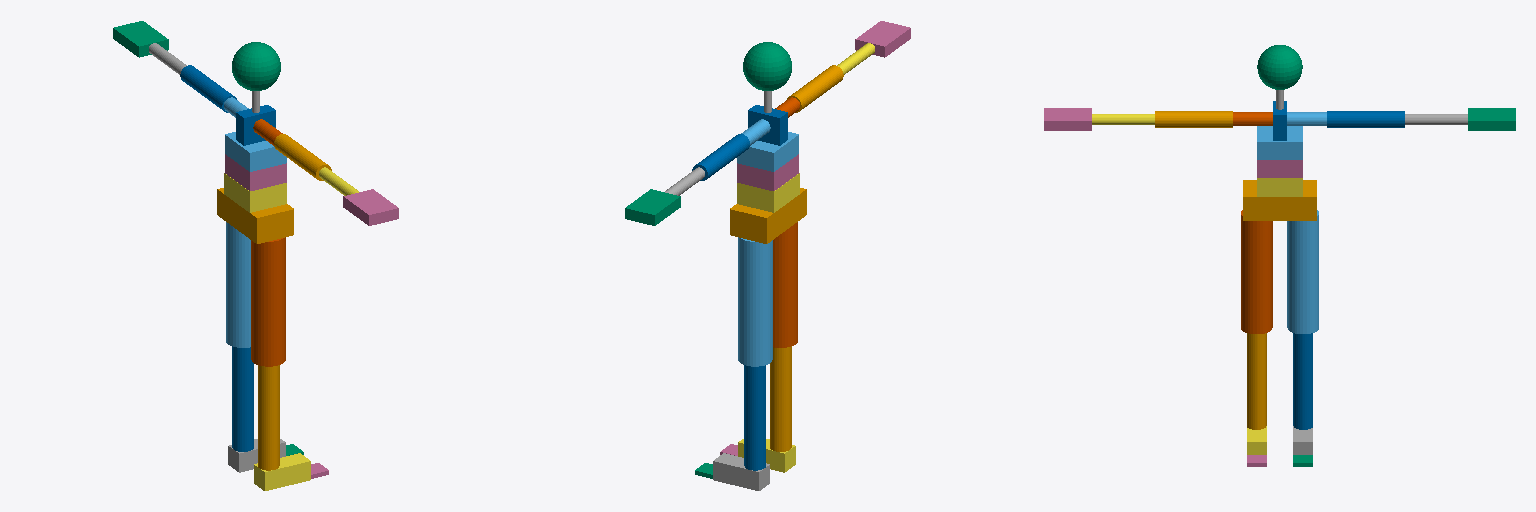
--- Render facts (derived) ---
3 views of the same robot in one strip: view 1: azimuth 30°, elevation 25°; view 2: azimuth 150°, elevation 25°; view 3: azimuth 270°, elevation 25° (orthographic).
Model XSensStyleModel_template with 67 links and 66 joints (66 revolute), rooted at Pelvis, posed all joints at 0.
Links seen in each view (by area): view 1: RightUpperLeg, LeftUpperLeg, Pelvis, RightLowerLeg, LeftLowerLeg, Head, T12, RightFoot, RightHand, L5, LeftHand, L3 (+4 smaller); view 2: LeftUpperLeg, RightUpperLeg, Pelvis, LeftLowerLeg, RightLowerLeg, Head, T12, LeftFoot, LeftHand, L5, RightHand, L3 (+4 smaller); view 3: RightUpperLeg, LeftUpperLeg, Pelvis, RightLowerLeg, LeftLowerLeg, Head, T12, RightUpperArm, LeftUpperArm, RightHand, LeftHand, L5 (+5 smaller).
Boxes of the visible links, bbox=[...] form: RightUpperLeg: bbox=[251, 237, 285, 366]; LeftUpperLeg: bbox=[226, 222, 250, 347]; Pelvis: bbox=[217, 188, 293, 243]; RightLowerLeg: bbox=[258, 365, 279, 470]; LeftLowerLeg: bbox=[232, 346, 253, 451]; Head: bbox=[232, 42, 280, 90]; T12: bbox=[225, 132, 286, 171]; RightFoot: bbox=[254, 453, 310, 490]; RightHand: bbox=[343, 189, 398, 225]; L5: bbox=[224, 173, 286, 212]; LeftHand: bbox=[113, 21, 168, 57]; L3: bbox=[225, 154, 286, 190]; LeftUpperLeg: bbox=[738, 237, 772, 366]; RightUpperLeg: bbox=[773, 222, 797, 347]; Pelvis: bbox=[730, 188, 806, 243]; LeftLowerLeg: bbox=[744, 365, 765, 470]; RightLowerLeg: bbox=[770, 346, 791, 451]; Head: bbox=[743, 42, 791, 90]; T12: bbox=[737, 132, 798, 171]; LeftFoot: bbox=[713, 453, 769, 490]; LeftHand: bbox=[625, 189, 680, 225]; L5: bbox=[737, 173, 799, 212]; RightHand: bbox=[855, 21, 910, 57]; L3: bbox=[737, 154, 798, 190]; RightUpperLeg: bbox=[1241, 210, 1272, 333]; LeftUpperLeg: bbox=[1287, 210, 1318, 333]; Pelvis: bbox=[1243, 180, 1316, 220]; RightLowerLeg: bbox=[1247, 333, 1266, 429]; LeftLowerLeg: bbox=[1293, 333, 1312, 429]; Head: bbox=[1257, 45, 1302, 89]; T12: bbox=[1257, 126, 1302, 159]; RightUpperArm: bbox=[1155, 111, 1232, 127]; LeftUpperArm: bbox=[1327, 111, 1404, 127]; RightHand: bbox=[1044, 108, 1091, 130]; LeftHand: bbox=[1468, 108, 1515, 130]; L5: bbox=[1257, 178, 1302, 196].
Size in the robot's own frame: 0.3304 by 1.92 by 1.79 metres.
Geometry: primitives only (box / cylinder / sphere), no mesh files.

URDF robot description (XSensStyleModel_template):
<!--URDF MODEL 66 DoFs-->

<robot name="XSensStyleModel_template">
<!--To open this model with Gazebo replace the null masses, inertias and dimensions of the 'fake links f1 and f2'-->
    <!--LINKS-->
	<!--Link base (1)-->
	<link name="Pelvis">
        <inertial>
            <mass value="6.312"/>
			<!--COM origin wrt pHipOrigin-->
            <origin xyz="0           0    0.057318" rpy="0 0 0" />
            <inertia ixx="0.052822" iyy="0.019965" izz="0.060476" ixy="0" ixz="0" iyz="0"/>
        </inertial>

        <visual>
			<!--box origin wrt pHipOrigin-->
            <origin xyz="0           0    0.057318" rpy="0 0 0" />
            <geometry>
                <box size="0.16203     0.29786     0.10818"/>
            </geometry>
        </visual>

        <collision>
			<!--box origin wrt pHipOrigin-->
            <origin xyz="0           0    0.057318" rpy="0 0 0" />
            <geometry>
                <box size="0.16203     0.29786     0.10818"/>
            </geometry>
        </collision>

    </link>
    <!--Chain from (2) to (7)-->
	<link name="L5_f1">
        <inertial>
            <mass value="0"/>
            <origin xyz="0 0 0" rpy="0 0 0" />
            <inertia ixx="0" iyy="0" izz="0" ixy="0" ixz="0" iyz="0"/>
        </inertial>
    </link>
	<link name="L5_f2">
        <inertial>
            <mass value="0"/>
            <origin xyz="0 0 0" rpy="0 0 0" />
            <inertia ixx="0" iyy="0" izz="0" ixy="0" ixz="0" iyz="0"/>
        </inertial>
    </link>
	<link name="L5">
        <inertial>
            <mass value="8.0478"/>
			<!--COM origin wrt jL5S1-->
            <origin xyz="0           0    0.044243" rpy="0 0 0" />
            <inertia ixx="0.029829" iyy="0.022858" izz="0.042185" ixy="0" ixz="0" iyz="0"/>
        </inertial>

        <visual>
			<!--box origin origin wrt jL5S1-->
            <origin xyz="0           0    0.044243" rpy="0 0 0" />
            <geometry>
                <box size="0.16203     0.19144    0.088486"/>
            </geometry>
        </visual>

        <collision>
			<!--box origin origin wrt jL5S1-->
            <origin xyz="0           0    0.044243" rpy="0 0 0" />
            <geometry>
                <box size="0.16203     0.19144    0.088486"/>
            </geometry>
        </collision>
    </link>
	<link name="L3_f1">
        <inertial>
            <mass value="0"/>
            <origin xyz="0 0 0" rpy="0 0 0" />
            <inertia ixx="0" iyy="0" izz="0" ixy="0" ixz="0" iyz="0"/>
        </inertial>
    </link>
	<link name="L3_f2">
        <inertial>
            <mass value="0"/>
            <origin xyz="0 0 0" rpy="0 0 0" />
            <inertia ixx="0" iyy="0" izz="0" ixy="0" ixz="0" iyz="0"/>
        </inertial>
    </link>
	<link name="L3">
        <inertial>
            <mass value="8.0478"/>
			<!--COM origin wrt jL4L3-->
            <origin xyz="0           0    0.039957" rpy="0 0 0" />
            <inertia ixx="0.028861" iyy="0.02189" izz="0.042185" ixy="0" ixz="0" iyz="0"/>
        </inertial>

        <visual>
			<!--box origin origin wrt jL4L3-->
            <origin xyz="0           0    0.039957" rpy="0 0 0" />
            <geometry>
                <box size="0.16203     0.19144    0.079914"/>
            </geometry>
        </visual>

        <collision>
			<!--box origin origin wrt jL4L3-->
            <origin xyz="0           0    0.039957" rpy="0 0 0" />
            <geometry>
                <box size="0.16203     0.19144    0.079914"/>
            </geometry>
        </collision>
    </link>
	<link name="T12_f1">
        <inertial>
            <mass value="0"/>
            <origin xyz="0 0 0" rpy="0 0 0" />
            <inertia ixx="0" iyy="0" izz="0" ixy="0" ixz="0" iyz="0"/>
        </inertial>
    </link>
	<link name="T12_f2">
        <inertial>
            <mass value="0"/>
            <origin xyz="0 0 0" rpy="0 0 0" />
            <inertia ixx="0" iyy="0" izz="0" ixy="0" ixz="0" iyz="0"/>
        </inertial>
    </link>
	<link name="T12">
        <inertial>
            <mass value="8.0478"/>
			<!--COM origin wrt jL1T12-->
            <origin xyz="0           0    0.039957" rpy="0 0 0" />
            <inertia ixx="0.028861" iyy="0.02189" izz="0.042185" ixy="0" ixz="0" iyz="0"/>
        </inertial>

        <visual>
			<!--box origin origin wrt jL1T12-->
            <origin xyz="0           0    0.039957" rpy="0 0 0" />
            <geometry>
                <box size="0.16203     0.19144    0.079914"/>
            </geometry>
        </visual>

        <collision>
			<!--box origin origin wrt jL1T12-->
            <origin xyz="0           0    0.039957" rpy="0 0 0" />
            <geometry>
                <box size="0.16203     0.19144    0.079914"/>
            </geometry>
        </collision>
    </link>
	<link name="T8_f1">
        <inertial>
            <mass value="0"/>
            <origin xyz="0 0 0" rpy="0 0 0" />
            <inertia ixx="0" iyy="0" izz="0" ixy="0" ixz="0" iyz="0"/>
        </inertial>
    </link>
	<link name="T8_f2">
        <inertial>
            <mass value="0"/>
            <origin xyz="0 0 0" rpy="0 0 0" />
            <inertia ixx="0" iyy="0" izz="0" ixy="0" ixz="0" iyz="0"/>
        </inertial>
    </link>
	<link name="T8">
        <inertial>
            <mass value="3.156"/>
			<!--COM origin wrt jT9T8-->
            <origin xyz="0           0    0.057446" rpy="0 0 0" />
            <inertia ixx="0.0044311" iyy="0.0085523" izz="0.0060402" ixy="0" ixz="0" iyz="0"/>
        </inertial>

        <visual>
			<!--box origin wrt jT9T8-->
            <origin xyz="0           0    0.057446" rpy="0 0 0" />
            <geometry>
                <box size="0.13899      0.0604     0.11489"/>
            </geometry>
        </visual>

        <collision>
			<!--box origin wrt jT9T8-->
            <origin xyz="0           0    0.057446" rpy="0 0 0" />
            <geometry>
                <box size="0.13899      0.0604     0.11489"/>
            </geometry>
        </collision>

    </link>
	<link name="Neck_f1">
        <inertial>
            <mass value="0"/>
            <origin xyz="0 0 0" rpy="0 0 0" />
            <inertia ixx="0" iyy="0" izz="0" ixy="0" ixz="0" iyz="0"/>
        </inertial>
    </link>
	<link name="Neck_f2">
        <inertial>
            <mass value="0"/>
            <origin xyz="0 0 0" rpy="0 0 0" />
            <inertia ixx="0" iyy="0" izz="0" ixy="0" ixz="0" iyz="0"/>
        </inertial>
    </link>
	<link name="Neck">
        <inertial>
            <mass value="0.9468"/>
			<!--COM origin wrt jT1C7-->
            <origin xyz="0           0    0.045875" rpy="0 0 0" />
            <inertia ixx="0.00087909" iyy="0.00087909" izz="0.00042982" ixy="0" ixz="0" iyz="0"/>
        </inertial>

        <visual>
			<!--box origin wrt jT1C7-->
            <origin xyz="0           0    0.045875" rpy="0 0 0" />
            <geometry>
		<cylinder length="0.09175" radius="0.015066"/>
            </geometry>
        </visual>

        <collision>
			<!--box origin wrt jT1C7-->
            <origin xyz="0           0    0.045875" rpy="0 0 0" />
            <geometry>
                <cylinder length="0.09175" radius="0.015066"/>
            </geometry>
        </collision>
    </link>
	<link name="Head_f1">
        <inertial>
            <mass value="0"/>
            <origin xyz="0 0 0" rpy="0 0 0" />
            <inertia ixx="0" iyy="0" izz="0" ixy="0" ixz="0" iyz="0"/>
        </inertial>
    </link>
	<link name="Head_f2">
        <inertial>
            <mass value="0"/>
            <origin xyz="0 0 0" rpy="0 0 0" />
            <inertia ixx="0" iyy="0" izz="0" ixy="0" ixz="0" iyz="0"/>
        </inertial>
    </link>
	<link name="Head">
        <inertial>
            <mass value="2.8404"/>
			<!--COM origin wrt jC1Head-->
            <origin xyz="0           0    0.092703" rpy="0 0 0" />
            <inertia ixx="0.0097641" iyy="0.0097641" izz="0.0097641" ixy="0" ixz="0" iyz="0"/>
        </inertial>

        <visual>
			<!--boc origin wrt jC1Head-->
            <origin xyz="0           0    0.092703" rpy="0 0 0" />
            <geometry>
                <sphere radius="0.092703"/>
            </geometry>
        </visual>

        <collision>
			<!--box origin wrt jC1Head-->
            <origin xyz="0           0    0.092703" rpy="0 0 0" />
            <geometry>
                <sphere radius="0.092703"/>
            </geometry>
        </collision>

    </link>
	<!--Chain from (8) to (11)-->
	<link name="RightShoulder_f1">
        <inertial>
            <mass value="0"/>
            <origin xyz="0 0 0" rpy="0 0 0" />
            <inertia ixx="0" iyy="0" izz="0" ixy="0" ixz="0" iyz="0"/>
        </inertial>
    </link>
	<link name="RightShoulder_f2">
        <inertial>
            <mass value="0"/>
            <origin xyz="0 0 0" rpy="0 0 0" />
            <inertia ixx="0" iyy="0" izz="0" ixy="0" ixz="0" iyz="0"/>
        </inertial>
    </link>
	<link name="RightShoulder">
        <inertial>
            <mass value="2.4459"/>
			<!--COM origin wrt jRightC7Shoulder-->
            <origin xyz="0   -0.081595           0" rpy="0 0 0" />
            <inertia ixx="0.0059341" iyy="0.0010123" izz="0.0059341" ixy="0" ixz="0" iyz="0"/>
        </inertial>

        <visual>
			<!--box origin wrt jRightC7Shoulder. RPY rotated of pi/2.-->
            <origin xyz="0   -0.081595           0" rpy="1.5708 0 0" />
            <geometry>
                <cylinder length="0.16319" radius="0.02877"/>
            </geometry>
        </visual>

        <collision>
			<!--box origin wrt jRightC7Shoulder. RPY rotated of pi/2.-->
            <origin xyz="0   -0.081595           0" rpy="1.5708 0 0" />
            <geometry>
                <cylinder length="0.16319" radius="0.02877"/>
            </geometry>
        </collision>

    </link>
	<link name="RightUpperArm_f1">
        <inertial>
            <mass value="0"/>
            <origin xyz="0 0 0" rpy="0 0 0" />
            <inertia ixx="0" iyy="0" izz="0" ixy="0" ixz="0" iyz="0"/>
        </inertial>
    </link>
	<link name="RightUpperArm_f2">
        <inertial>
            <mass value="0"/>
            <origin xyz="0 0 0" rpy="0 0 0" />
            <inertia ixx="0" iyy="0" izz="0" ixy="0" ixz="0" iyz="0"/>
        </inertial>
    </link>
    <link name="RightUpperArm">
        <inertial>
            <mass value="2.367"/>
			<!--COM origin wrt jRightShoulder-->
            <origin xyz="0    -0.15754           0" rpy="0 0 0" />
            <inertia ixx="0.020275" iyy="0.0013847" izz="0.020275" ixy="0" ixz="0" iyz="0"/>
        </inertial>

        <visual>
			<!--box origin wrt jRightShoulder. RPY rotated of pi/2.-->
            <origin xyz="0    -0.15754           0" rpy="1.5708 0 0" />
            <geometry>
                <cylinder length="0.31509" radius="0.034205"/>
            </geometry>
        </visual>

        <collision>
			<!--box origin wrt jRightShoulder. RPY rotated of pi/2.-->
            <origin xyz="0    -0.15754           0" rpy="1.5708 0 0" />
            <geometry>
                <cylinder length="0.31509" radius="0.034205"/>
            </geometry>
        </collision>

    </link>
	<link name="RightForeArm_f1">
        <inertial>
            <mass value="0"/>
            <origin xyz="0 0 0" rpy="0 0 0" />
            <inertia ixx="0" iyy="0" izz="0" ixy="0" ixz="0" iyz="0"/>
        </inertial>
    </link>
	<link name="RightForeArm_f2">
        <inertial>
            <mass value="0"/>
            <origin xyz="0 0 0" rpy="0 0 0" />
            <inertia ixx="0" iyy="0" izz="0" ixy="0" ixz="0" iyz="0"/>
        </inertial>
    </link>
	<link name="RightForeArm">
        <inertial>
            <mass value="1.578"/>
			<!--COM origin wrt jRightElbow-->
            <origin xyz="0     -0.1292           0" rpy="0 0 0" />
            <inertia ixx="0.0089856" iyy="0.00041027" izz="0.0089856" ixy="0" ixz="0" iyz="0"/>
        </inertial>

        <visual>
			<!--box origin wrt jRightElbow. RPY rotated of pi/2.-->
            <origin xyz="0     -0.1292           0" rpy="1.5708 0 0" />
            <geometry>
                <cylinder length="0.2584" radius="0.022803"/>
            </geometry>
        </visual>

        <collision>
			<!--box origin wrt jRightElbow. RPY rotated of pi/2.-->
            <origin xyz="0     -0.1292           0" rpy="1.5708 0 0" />
            <geometry>
                <cylinder length="0.2584" radius="0.022803"/>
            </geometry>
        </collision>

    </link>
	<link name="RightHand_f1">
        <inertial>
            <mass value="0"/>
            <origin xyz="0 0 0" rpy="0 0 0" />
            <inertia ixx="0" iyy="0" izz="0" ixy="0" ixz="0" iyz="0"/>
        </inertial>
    </link>
	<link name="RightHand_f2">
        <inertial>
            <mass value="0"/>
            <origin xyz="0 0 0" rpy="0 0 0" />
            <inertia ixx="0" iyy="0" izz="0" ixy="0" ixz="0" iyz="0"/>
        </inertial>
    </link>
	<link name="RightHand">
        <inertial>
            <mass value="0.4734"/>
			<!--COM origin wrt jRightWrist-->
            <origin xyz="0   -0.096871           0" rpy="0 0 0" />
            <inertia ixx="0.0015629" iyy="0.00074019" izz="0.0021389" ixy="0" ixz="0" iyz="0"/>
        </inertial>

        <visual>
			<!--box origin wrt jRightWrist-->
            <origin xyz="0   -0.096871           0" rpy="0 0 0" />
            <geometry>
                <box size="0.12916     0.19374    0.045607"/>
            </geometry>
        </visual>

        <collision>
			<!--box origin wrt jRightWrist-->
            <origin xyz="0   -0.096871           0" rpy="0 0 0" />
            <geometry>
                <box size="0.12916     0.19374    0.045607"/>
            </geometry>
        </collision>

    </link>
	<!--Chain from (12) to (15)-->
	<link name="LeftShoulder_f1">
        <inertial>
            <mass value="0"/>
            <origin xyz="0 0 0" rpy="0 0 0" />
            <inertia ixx="0" iyy="0" izz="0" ixy="0" ixz="0" iyz="0"/>
        </inertial>
    </link>
	<link name="LeftShoulder_f2">
        <inertial>
            <mass value="0"/>
            <origin xyz="0 0 0" rpy="0 0 0" />
            <inertia ixx="0" iyy="0" izz="0" ixy="0" ixz="0" iyz="0"/>
        </inertial>
    </link>
	<link name="LeftShoulder">
        <inertial>
            <mass value="2.4459"/>
			<!--COM origin wrt jLeftC7Shoulder-->
            <origin xyz="0    0.081595           0" rpy="0 0 0" />
            <inertia ixx="0.0059341" iyy="0.0010123" izz="0.0059341" ixy="0" ixz="0" iyz="0"/>
        </inertial>

        <visual>
			<!--box origin wrt jLeftC7Shoulder. RPY rotated of pi/2.-->
            <origin xyz="0    0.081595           0" rpy="1.5708 0 0" />
            <geometry>
                <cylinder length="0.16319" radius="0.02877"/>
            </geometry>
        </visual>

        <collision>
			<!--box origin wrt jLeftC7Shoulder. RPY rotated of pi/2.-->
            <origin xyz="0    0.081595           0" rpy="1.5708 0 0" />
            <geometry>
                <cylinder length="0.16319" radius="0.02877"/>
            </geometry>
        </collision>

    </link>
	<link name="LeftUpperArm_f1">
        <inertial>
            <mass value="0"/>
            <origin xyz="0 0 0" rpy="0 0 0" />
            <inertia ixx="0" iyy="0" izz="0" ixy="0" ixz="0" iyz="0"/>
        </inertial>
    </link>
	<link name="LeftUpperArm_f2">
        <inertial>
            <mass value="0"/>
            <origin xyz="0 0 0" rpy="0 0 0" />
            <inertia ixx="0" iyy="0" izz="0" ixy="0" ixz="0" iyz="0"/>
        </inertial>
    </link>
	<link name="LeftUpperArm">
        <inertial>
            <mass value="2.367"/>
			<!--COM origin wrt jLeftShoulder-->
            <origin xyz="0     0.15754           0" rpy="0 0 0" />
            <inertia ixx="0.020275" iyy="0.0013847" izz="0.020275" ixy="0" ixz="0" iyz="0"/>
        </inertial>

        <visual>
			<!--box origin wrt jLeftShoulder. RPY rotated of pi/2.-->
            <origin xyz="0     0.15754           0" rpy="1.5708 0 0" />
            <geometry>
                <cylinder length="0.31509" radius="0.034205"/>
            </geometry>
        </visual>

        <collision>
			<!--box origin wrt jLeftShoulder. RPY rotated of pi/2.-->
            <origin xyz="0     0.15754           0" rpy="1.5708 0 0" />
            <geometry>
                <cylinder length="0.31509" radius="0.034205"/>
            </geometry>
        </collision>

    </link>
	<link name="LeftForeArm_f1">
        <inertial>
            <mass value="0"/>
            <origin xyz="0 0 0" rpy="0 0 0" />
            <inertia ixx="0" iyy="0" izz="0" ixy="0" ixz="0" iyz="0"/>
        </inertial>
    </link>
	<link name="LeftForeArm_f2">
        <inertial>
            <mass value="0"/>
            <origin xyz="0 0 0" rpy="0 0 0" />
            <inertia ixx="0" iyy="0" izz="0" ixy="0" ixz="0" iyz="0"/>
        </inertial>
    </link>
	<link name="LeftForeArm">
        <inertial>
            <mass value="1.578"/>
			<!--COM origin wrt jLeftElbow-->
            <origin xyz="0      0.1292           0" rpy="0 0 0" />
            <inertia ixx="0.0089856" iyy="0.00041027" izz="0.0089856" ixy="0" ixz="0" iyz="0"/>
        </inertial>

        <visual>
			<!--box origin wrt jLeftElbow. RPY rotated of pi/2.-->
            <origin xyz="0      0.1292           0" rpy="1.5708 0 0" />
            <geometry>
                <cylinder length="0.2584" radius="0.022803"/>
            </geometry>
        </visual>

        <collision>
			<!--box origin wrt jLeftElbow. RPY rotated of pi/2.-->
            <origin xyz="0      0.1292           0" rpy="1.5708 0 0" />
            <geometry>
                <cylinder length="0.2584" radius="0.022803"/>
            </geometry>
        </collision>

    </link>
	<link name="LeftHand_f1">
        <inertial>
            <mass value="0"/>
            <origin xyz="0 0 0" rpy="0 0 0" />
            <inertia ixx="0" iyy="0" izz="0" ixy="0" ixz="0" iyz="0"/>
        </inertial>
    </link>
	<link name="LeftHand_f2">
        <inertial>
            <mass value="0"/>
            <origin xyz="0 0 0" rpy="0 0 0" />
            <inertia ixx="0" iyy="0" izz="0" ixy="0" ixz="0" iyz="0"/>
        </inertial>
    </link>
	<link name="LeftHand">
        <inertial>
            <mass value="0.4734"/>
			<!--COM origin wrt jLeftWrist-->
            <origin xyz="0    0.096871           0" rpy="0 0 0" />
            <inertia ixx="0.0015629" iyy="0.00074019" izz="0.0021389" ixy="0" ixz="0" iyz="0"/>
        </inertial>

        <visual>
			<!--COM origin wrt jLeftWrist-->
            <origin xyz="0    0.096871           0" rpy="0 0 0" />
            <geometry>
                <box size="0.12916     0.19374    0.045607"/>
            </geometry>
        </visual>

        <collision>
			<!--COM origin wrt jLeftWrist-->
            <origin xyz="0    0.096871           0" rpy="0 0 0" />
            <geometry>
                <box size="0.12916     0.19374    0.045607"/>
            </geometry>
        </collision>

    </link>
	<!--Chain from (16) to (19)-->
	<link name="RightUpperLeg_f1">
        <inertial>
            <mass value="0"/>
            <origin xyz="0 0 0" rpy="0 0 0" />
            <inertia ixx="0" iyy="0" izz="0" ixy="0" ixz="0" iyz="0"/>
        </inertial>
    </link>
	<link name="RightUpperLeg_f2">
        <inertial>
            <mass value="0"/>
            <origin xyz="0 0 0" rpy="0 0 0" />
            <inertia ixx="0" iyy="0" izz="0" ixy="0" ixz="0" iyz="0"/>
        </inertial>
    </link>
    <link name="RightUpperLeg">
        <inertial>
            <mass value="9.8625"/>
			<!--COM origin wrt jRightHip-->
            <origin xyz="0           0     -0.2582" rpy="0 0 0" />
            <inertia ixx="0.22964" iyy="0.22964" izz="0.020925" ixy="0" ixz="0" iyz="0"/>
        </inertial>

        <visual>
			<!--box origin wrt jRightHip-->
            <origin xyz="0           0     -0.2582" rpy="0 0 0" />
            <geometry>
                <cylinder length="0.51641" radius="0.065141"/>
            </geometry>
        </visual>

        <collision>
			<!--box origin wrt jRightHip-->
            <origin xyz="0           0     -0.2582" rpy="0 0 0" />
            <geometry>
                <cylinder length="0.51641" radius="0.065141"/>
            </geometry>
        </collision>

    </link>
	<link name="RightLowerLeg_f1">
        <inertial>
            <mass value="0"/>
            <origin xyz="0 0 0" rpy="0 0 0" />
            <inertia ixx="0" iyy="0" izz="0" ixy="0" ixz="0" iyz="0"/>
        </inertial>
    </link>
	<link name="RightLowerLeg_f2">
        <inertial>
            <mass value="0"/>
            <origin xyz="0 0 0" rpy="0 0 0" />
            <inertia ixx="0" iyy="0" izz="0" ixy="0" ixz="0" iyz="0"/>
        </inertial>
    </link>
    <link name="RightLowerLeg">
        <inertial>
            <mass value="2.8799"/>
			<!--COM origin wrt jRightKnee-->
            <origin xyz="0           0    -0.22068" rpy="0 0 0" />
            <inertia ixx="0.047941" iyy="0.047941" izz="0.002384" ixy="0" ixz="0" iyz="0"/>
        </inertial>

        <visual>
			<!--box origin wrt jRightKnee-->
            <origin xyz="0           0    -0.22068" rpy="0 0 0" />
            <geometry>
                <cylinder length="0.44136" radius="0.04069"/>
            </geometry>
        </visual>

        <collision>
			<!--box origin wrt jRightKnee-->
            <origin xyz="0           0    -0.22068" rpy="0 0 0" />
            <geometry>
                <cylinder length="0.44136" radius="0.04069"/>
            </geometry>
        </collision>

    </link>
	<link name="RightFoot_f1">
        <inertial>
            <mass value="0"/>
            <origin xyz="0 0 0" rpy="0 0 0" />
            <inertia ixx="0" iyy="0" izz="0" ixy="0" ixz="0" iyz="0"/>
        </inertial>
    </link>
	<link name="RightFoot_f2">
        <inertial>
            <mass value="0"/>
            <origin xyz="0 0 0" rpy="0 0 0" />
            <inertia ixx="0" iyy="0" izz="0" ixy="0" ixz="0" iyz="0"/>
        </inertial>
    </link>
    <link name="RightFoot">
        <inertial>
            <mass value="1.0257"/>
			<!--COM origin wrt jRightAnkle-->
            <origin xyz="0.059932           0    -0.03973" rpy="0 0 0" />
            <inertia ixx="0.0011058" iyy="0.003993" izz="0.0040194" ixy="0" ixz="0" iyz="0"/>
        </inertial>

        <visual>
			<!--box origin wrt jRightAnkle-->
	    	<origin xyz="0.059932           0    -0.03973" rpy="0 0 0" />
            <geometry>
                <box size="0.201     0.08138     0.07946"/>
            </geometry>
        </visual>

        <collision>
			<!--box origin wrt jRightAnkle-->
		    <origin xyz="0.059932           0    -0.03973" rpy="0 0 0" />
	            <geometry>
	                <box size="0.201     0.08138     0.07946"/>
	            </geometry>
        </collision>

    </link>
	<link name="RightToe_f1">
        <inertial>
            <mass value="0"/>
            <origin xyz="0 0 0" rpy="0 0 0" />
            <inertia ixx="0" iyy="0" izz="0" ixy="0" ixz="0" iyz="0"/>
        </inertial>
    </link>
	<link name="RightToe_f2">
        <inertial>
            <mass value="0"/>
            <origin xyz="0 0 0" rpy="0 0 0" />
            <inertia ixx="0" iyy="0" izz="0" ixy="0" ixz="0" iyz="0"/>
        </inertial>
    </link>
    <link name="RightToe">
        <inertial>
            <mass value="0.11835"/>
			<!--COM origin wrt jRightBallFoot-->
            <origin xyz="0.039497           0           0" rpy="0 0 0" />
            <inertia ixx="6.8414e-05" iyy="6.4641e-05" izz="0.00012686" ixy="0" ixz="0" iyz="0"/>
        </inertial>

        <visual>
			<!--box origin wrt jRightBallFoot-->
            <origin xyz="0.039497           0           0" rpy="0 0 0" />
            <geometry>
                <box size="0.078995     0.08138    0.017721"/>
            </geometry>
        </visual>

        <collision>
			<!--box origin wrt jRightBallFoot-->
            <origin xyz="0.039497           0           0" rpy="0 0 0" />
            <geometry>
                <box size="0.078995     0.08138    0.017721"/>
            </geometry>
        </collision>
    </link>
	<!--Chain from (20) to (23)-->
	<link name="LeftUpperLeg_f1">
        <inertial>
            <mass value="0"/>
            <origin xyz="0 0 0" rpy="0 0 0" />
            <inertia ixx="0" iyy="0" izz="0" ixy="0" ixz="0" iyz="0"/>
        </inertial>
    </link>
	<link name="LeftUpperLeg_f2">
        <inertial>
            <mass value="0"/>
            <origin xyz="0 0 0" rpy="0 0 0" />
            <inertia ixx="0" iyy="0" izz="0" ixy="0" ixz="0" iyz="0"/>
        </inertial>
    </link>
    <link name="LeftUpperLeg">
        <inertial>
            <mass value="9.8625"/>
			<!--COM origin wrt jLeftHip-->
            <origin xyz="0           0     -0.2582" rpy="0 0 0" />
            <inertia ixx="0.22964" iyy="0.22964" izz="0.020925" ixy="0" ixz="0" iyz="0"/>
        </inertial>

        <visual>
			<!--box origin wrt jLeftHip-->
            <origin xyz="0           0     -0.2582" rpy="0 0 0" />
            <geometry>
                <cylinder length="0.51641" radius="0.065141"/>
            </geometry>
        </visual>

        <collision>
			<!--box origin wrt jLeftHip-->
            <origin xyz="0           0     -0.2582" rpy="0 0 0" />
            <geometry>
                <cylinder length="0.51641" radius="0.065141"/>
            </geometry>
        </collision>

    </link>
	<link name="LeftLowerLeg_f1">
        <inertial>
            <mass value="0"/>
            <origin xyz="0 0 0" rpy="0 0 0" />
            <inertia ixx="0" iyy="0" izz="0" ixy="0" ixz="0" iyz="0"/>
        </inertial>
    </link>
	<link name="LeftLowerLeg_f2">
        <inertial>
            <mass value="0"/>
            <origin xyz="0 0 0" rpy="0 0 0" />
            <inertia ixx="0" iyy="0" izz="0" ixy="0" ixz="0" iyz="0"/>
        </inertial>
    </link>
	<link name="LeftLowerLeg">
        <inertial>
            <mass value="2.8799"/>
			<!--COM origin wrt jLeftKnee-->
            <origin xyz="0           0    -0.22068" rpy="0 0 0" />
            <inertia ixx="0.047941" iyy="0.047941" izz="0.002384" ixy="0" ixz="0" iyz="0"/>
        </inertial>

        <visual>
			<!--box origin wrt jLeftKnee-->
            <origin xyz="0           0    -0.22068" rpy="0 0 0" />
            <geometry>
		<cylinder length="0.44136" radius="0.04069"/>
            </geometry>
        </visual>

        <collision>
			<!--box origin wrt jLeftKnee-->
            <origin xyz="0           0    -0.22068" rpy="0 0 0" />
            <geometry>
		<cylinder length="0.44136" radius="0.04069"/>
            </geometry>
        </collision>

    </link>
	<link name="LeftFoot_f1">
        <inertial>
            <mass value="0"/>
            <origin xyz="0 0 0" rpy="0 0 0" />
            <inertia ixx="0" iyy="0" izz="0" ixy="0" ixz="0" iyz="0"/>
        </inertial>
    </link>
	<link name="LeftFoot_f2">
        <inertial>
            <mass value="0"/>
            <origin xyz="0 0 0" rpy="0 0 0" />
            <inertia ixx="0" iyy="0" izz="0" ixy="0" ixz="0" iyz="0"/>
        </inertial>
    </link>
    <link name="LeftFoot">
        <inertial>
            <mass value="1.0257"/>
			<!--COM origin wrt jLeftAnkle-->
            <origin xyz="0.059932           0    -0.03973" rpy="0 0 0" />
            <inertia ixx="0.0011058" iyy="0.003993" izz="0.0040194" ixy="0" ixz="0" iyz="0"/>
        </inertial>

        <visual>
			<!--box origin wrt jLeftAnkle-->
	   	 	<origin xyz="0.059932           0    -0.03973" rpy="0 0 0" />
            <geometry>
                <box size="0.201     0.08138     0.07946"/>
            </geometry>
        </visual>

        <collision>
			<!--box origin wrt jLeftAnkle-->
		    <origin xyz="0.059932           0    -0.03973" rpy="0 0 0" />
	            <geometry>
	                <box size="0.201     0.08138     0.07946"/>
	            </geometry>
        </collision>

    </link>
	<link name="LeftToe_f1">
        <inertial>
            <mass value="0"/>
            <origin xyz="0 0 0" rpy="0 0 0" />
            <inertia ixx="0" iyy="0" izz="0" ixy="0" ixz="0" iyz="0"/>
        </inertial>
    </link>
	<link name="LeftToe_f2">
        <inertial>
            <mass value="0"/>
            <origin xyz="0 0 0" rpy="0 0 0" />
            <inertia ixx="0" iyy="0" izz="0" ixy="0" ixz="0" iyz="0"/>
        </inertial>
    </link>
	<link name="LeftToe">
        <inertial>
            <mass value="0.11835"/>
			<!--COM origin wrt jLeftBallFoot-->
            <origin xyz="0.039497           0           0" rpy="0 0 0" />
            <inertia ixx="6.8414e-05" iyy="6.4641e-05" izz="0.00012686" ixy="0" ixz="0" iyz="0"/>
        </inertial>

        <visual>
			<!--box origin wrt jLeftBallFoot-->
            <origin xyz="0.039497           0           0" rpy="0 0 0" />
            <geometry>
                <box size="0.078995     0.08138    0.017721"/>
            </geometry>
        </visual>

        <collision>
			<!--box origin wrt jLeftBallFoot-->
            <origin xyz="0.039497           0           0" rpy="0 0 0" />
            <geometry>
                <box size="0.078995     0.08138    0.017721"/>
            </geometry>
        </collision>
    </link>


	<!--JOINTS-->
	<!--Chain from (2) to (7)-->
	<joint name="jL5S1_rotx" type="revolute">
        <origin xyz="-0.000659           0     0.11141" rpy="0 0 0"/>
        <parent link="Pelvis"/>
        <child link="L5_f1"/>
        <dynamics damping="0.1" friction="0.0"/>
        <limit effort="30" velocity="1.0" lower="-10.0" upper="10.0" />
        <axis xyz="1 0 0" />
    </joint>
	<joint name="jL5S1_roty" type="revolute">
        <origin xyz="0 0 0" rpy="0 0 0"/>
        <parent link="L5_f1"/>
        <child link="L5_f2"/>
        <dynamics damping="0.1" friction="0.0"/>
        <limit effort="30" velocity="1.0" lower="-10.0" upper="10.0" />
        <axis xyz="0 1 0" />
    </joint>
    <joint name="jL5S1_rotz" type="revolute">
        <origin xyz="0 0 0" rpy="0 0 0"/>
        <parent link="L5_f2"/>
        <child link="L5"/>
        <dynamics damping="0.1" friction="0.0"/>
        <limit effort="30" velocity="1.0" lower="-10.0" upper="10.0" />
        <axis xyz="0 0 1" />
    </joint>
	<joint name="jL4L3_rotx" type="revolute">
        <origin xyz="0.001197           0    0.088486" rpy="0 0 0"/>
        <parent link="L5"/>
        <child link="L3_f1"/>
        <dynamics damping="0.1" friction="0.0"/>
        <limit effort="30" velocity="1.0" lower="-10.0" upper="10.0" />
        <axis xyz="1 0 0" />
    </joint>
	<joint name="jL4L3_roty" type="revolute">
        <origin xyz="0 0 0" rpy="0 0 0"/>
        <parent link="L3_f1"/>
        <child link="L3_f2"/>
        <dynamics damping="0.1" friction="0.0"/>
        <limit effort="30" velocity="1.0" lower="-10.0" upper="10.0" />
        <axis xyz="0 1 0" />
    </joint>
    <joint name="jL4L3_rotz" type="revolute">
        <origin xyz="0 0 0" rpy="0 0 0"/>
        <parent link="L3_f2"/>
        <child link="L3"/>
        <dynamics damping="0.1" friction="0.0"/>
        <limit effort="30" velocity="1.0" lower="-10.0" upper="10.0" />
        <axis xyz="0 0 1" />
    </joint>
	<joint name="jL1T12_rotx" type="revolute">
        <origin xyz="0           0    0.079914" rpy="0 0 0"/>
        <parent link="L3"/>
        <child link="T12_f1"/>
        <dynamics damping="0.1" friction="0.0"/>
        <limit effort="30" velocity="1.0" lower="-10.0" upper="10.0" />
        <axis xyz="1 0 0" />
    </joint>
	<joint name="jL1T12_roty" type="revolute">
        <origin xyz="0 0 0" rpy="0 0 0"/>
        <parent link="T12_f1"/>
        <child link="T12_f2"/>
        <dynamics damping="0.1" friction="0.0"/>
        <limit effort="30" velocity="1.0" lower="-10.0" upper="10.0" />
        <axis xyz="0 1 0" />
    </joint>
    <joint name="jL1T12_rotz" type="revolute">
        <origin xyz="0 0 0" rpy="0 0 0"/>
        <parent link="T12_f2"/>
        <child link="T12"/>
        <dynamics damping="0.1" friction="0.0"/>
        <limit effort="30" velocity="1.0" lower="-10.0" upper="10.0" />
        <axis xyz="0 0 1" />
    </joint>
	<joint name="jT9T8_rotx" type="revolute">
        <origin xyz="0           0    0.079914" rpy="0 0 0"/>
        <parent link="T12"/>
        <child link="T8_f1"/>
        <dynamics damping="0.1" friction="0.0"/>
        <limit effort="30" velocity="1.0" lower="-10.0" upper="10.0" />
        <axis xyz="1 0 0" />
    </joint>
	<joint name="jT9T8_roty" type="revolute">
        <origin xyz="0 0 0" rpy="0 0 0"/>
        <parent link="T8_f1"/>
        <child link="T8_f2"/>
        <dynamics damping="0.1" friction="0.0"/>
        <limit effort="30" velocity="1.0" lower="-10.0" upper="10.0" />
        <axis xyz="0 1 0" />
    </joint>
    <joint name="jT9T8_rotz" type="revolute">
        <origin xyz="0 0 0" rpy="0 0 0"/>
        <parent link="T8_f2"/>
        <child link="T8"/>
        <dynamics damping="0.1" friction="0.0"/>
        <limit effort="30" velocity="1.0" lower="-10.0" upper="10.0" />
        <axis xyz="0 0 1" />
    </joint>
	<joint name="jT1C7_rotx" type="revolute">
        <origin xyz="0           0     0.11489" rpy="0 0 0"/>
        <parent link="T8"/>
        <child link="Neck_f1"/>
        <dynamics damping="0.1" friction="0.0"/>
        <limit effort="30" velocity="1.0" lower="-10.0" upper="10.0" />
        <axis xyz="1 0 0" />
    </joint>
	<joint name="jT1C7_roty" type="revolute">
        <origin xyz="0 0 0" rpy="0 0 0"/>
        <parent link="Neck_f1"/>
        <child link="Neck_f2"/>
        <dynamics damping="0.1" friction="0.0"/>
        <limit effort="30" velocity="1.0" lower="-10.0" upper="10.0" />
        <axis xyz="0 1 0" />
    </joint>
    <joint name="jT1C7_rotz" type="revolute">
        <origin xyz="0 0 0" rpy="0 0 0"/>
        <parent link="Neck_f2"/>
        <child link="Neck"/>
        <dynamics damping="0.1" friction="0.0"/>
        <limit effort="30" velocity="1.0" lower="-10.0" upper="10.0" />
        <axis xyz="0 0 1" />
    </joint>
	<joint name="jC1Head_rotx" type="revolute">
        <origin xyz="0.001481           0     0.09175" rpy="0 0 0"/>
        <parent link="Neck"/>
        <child link="Head_f1"/>
        <dynamics damping="0.1" friction="0.0"/>
        <limit effort="30" velocity="1.0" lower="-10.0" upper="10.0" />
        <axis xyz="1 0 0" />
    </joint>
	<joint name="jC1Head_roty" type="revolute">
        <origin xyz="0 0 0" rpy="0 0 0"/>
        <parent link="Head_f1"/>
        <child link="Head_f2"/>
        <dynamics damping="0.1" friction="0.0"/>
        <limit effort="30" velocity="1.0" lower="-10.0" upper="10.0" />
        <axis xyz="0 1 0" />
    </joint>
    <joint name="jC1Head_rotz" type="revolute">
        <origin xyz="0 0 0" rpy="0 0 0"/>
        <parent link="Head_f2"/>
        <child link="Head"/>
        <dynamics damping="0.1" friction="0.0"/>
        <limit effort="30" velocity="1.0" lower="-10.0" upper="10.0" />
        <axis xyz="0 0 1" />
    </joint>
	<!--Chain from (8) to (11)-->
	<joint name="jRightC7Shoulder_rotx" type="revolute">
        <origin xyz="0     -0.0302    0.064859" rpy="0 0 0"/>
        <parent link="T8"/>
        <child link="RightShoulder_f1"/>
        <dynamics damping="0.1" friction="0.0"/>
        <limit effort="30" velocity="1.0" lower="-10.0" upper="10.0" />
        <axis xyz="1 0 0" />
    </joint>
	<joint name="jRightC7Shoulder_roty" type="revolute">
        <origin xyz="0 0 0" rpy="0 0 0"/>
        <parent link="RightShoulder_f1"/>
        <child link="RightShoulder_f2"/>
        <dynamics damping="0.1" friction="0.0"/>
        <limit effort="30" velocity="1.0" lower="-10.0" upper="10.0" />
        <axis xyz="0 1 0" />
    </joint>
    <joint name="jRightC7Shoulder_rotz" type="revolute">
        <origin xyz="0 0 0" rpy="0 0 0"/>
        <parent link="RightShoulder_f2"/>
        <child link="RightShoulder"/>
        <dynamics damping="0.1" friction="0.0"/>
        <limit effort="30" velocity="1.0" lower="-10.0" upper="10.0" />
        <axis xyz="0 0 1" />
    </joint>
	<joint name="jRightShoulder_rotx" type="revolute">
        <origin xyz="0    -0.16319           0" rpy="0 0 0"/>
        <parent link="RightShoulder"/>
        <child link="RightUpperArm_f1"/>
        <dynamics damping="0.1" friction="0.0"/>
        <limit effort="30" velocity="1.0" lower="-10.0" upper="10.0" />
        <axis xyz="1 0 0" />
    </joint>
	<joint name="jRightShoulder_roty" type="revolute">
        <origin xyz="0 0 0" rpy="0 0 0"/>
        <parent link="RightUpperArm_f1"/>
        <child link="RightUpperArm_f2"/>
        <dynamics damping="0.1" friction="0.0"/>
        <limit effort="30" velocity="1.0" lower="-10.0" upper="10.0" />
        <axis xyz="0 1 0" />
    </joint>
    <joint name="jRightShoulder_rotz" type="revolute">
        <origin xyz="0 0 0" rpy="0 0 0"/>
        <parent link="RightUpperArm_f2"/>
        <child link="RightUpperArm"/>
        <dynamics damping="0.1" friction="0.0"/>
        <limit effort="30" velocity="1.0" lower="-10.0" upper="10.0" />
        <axis xyz="0 0 1" />
    </joint>
	<joint name="jRightElbow_rotx" type="revolute">
        <origin xyz="0    -0.31509           0" rpy="0 0 0"/>
        <parent link="RightUpperArm"/>
        <child link="RightForeArm_f1"/>
        <dynamics damping="0.1" friction="0.0"/>
        <limit effort="30" velocity="1.0" lower="-10.0" upper="10.0" />
        <axis xyz="1 0 0" />
    </joint>
	<joint name="jRightElbow_roty" type="revolute">
        <origin xyz="0 0 0" rpy="0 0 0"/>
        <parent link="RightForeArm_f1"/>
        <child link="RightForeArm_f2"/>
        <dynamics damping="0.1" friction="0.0"/>
        <limit effort="30" velocity="1.0" lower="-10.0" upper="10.0" />
        <axis xyz="0 1 0" />
    </joint>
    <joint name="jRightElbow_rotz" type="revolute">
        <origin xyz="0 0 0" rpy="0 0 0"/>
        <parent link="RightForeArm_f2"/>
        <child link="RightForeArm"/>
        <dynamics damping="0.1" friction="0.0"/>
        <limit effort="30" velocity="1.0" lower="-10.0" upper="10.0" />
        <axis xyz="0 0 1" />
    </joint>
	<joint name="jRightWrist_rotx" type="revolute">
        <origin xyz="2.6e-05     -0.2584           0" rpy="0 0 0"/>
        <parent link="RightForeArm"/>
        <child link="RightHand_f1"/>
        <dynamics damping="0.1" friction="0.0"/>
        <limit effort="30" velocity="1.0" lower="-10.0" upper="10.0" />
        <axis xyz="1 0 0" />
    </joint>
	<joint name="jRightWrist_roty" type="revolute">
        <origin xyz="0 0 0" rpy="0 0 0"/>
        <parent link="RightHand_f1"/>
        <child link="RightHand_f2"/>
        <dynamics damping="0.1" friction="0.0"/>
        <limit effort="30" velocity="1.0" lower="-10.0" upper="10.0" />
        <axis xyz="0 1 0" />
    </joint>
    <joint name="jRightWrist_rotz" type="revolute">
        <origin xyz="0 0 0" rpy="0 0 0"/>
        <parent link="RightHand_f2"/>
        <child link="RightHand"/>
        <dynamics damping="0.1" friction="0.0"/>
        <limit effort="30" velocity="1.0" lower="-10.0" upper="10.0" />
        <axis xyz="0 0 1" />
    </joint>
	<!--Chain from (12) to (15)-->
	<joint name="jLeftC7Shoulder_rotx" type="revolute">
        <origin xyz="0      0.0302    0.064859" rpy="0 0 0"/>
        <parent link="T8"/>
        <child link="LeftShoulder_f1"/>
        <dynamics damping="0.1" friction="0.0"/>
        <limit effort="30" velocity="1.0" lower="-10.0" upper="10.0" />
        <axis xyz="1 0 0" />
    </joint>
	<joint name="jLeftC7Shoulder_roty" type="revolute">
        <origin xyz="0 0 0" rpy="0 0 0"/>
        <parent link="LeftShoulder_f1"/>
        <child link="LeftShoulder_f2"/>
        <dynamics damping="0.1" friction="0.0"/>
        <limit effort="30" velocity="1.0" lower="-10.0" upper="10.0" />
        <axis xyz="0 1 0" />
    </joint>
    <joint name="jLeftC7Shoulder_rotz" type="revolute">
        <origin xyz="0 0 0" rpy="0 0 0"/>
        <parent link="LeftShoulder_f2"/>
        <child link="LeftShoulder"/>
        <dynamics damping="0.1" friction="0.0"/>
        <limit effort="30" velocity="1.0" lower="-10.0" upper="10.0" />
        <axis xyz="0 0 1" />
    </joint>
	<joint name="jLeftShoulder_rotx" type="revolute">
        <origin xyz="0     0.16319           0" rpy="0 0 0"/>
        <parent link="LeftShoulder"/>
        <child link="LeftUpperArm_f1"/>
        <dynamics damping="0.1" friction="0.0"/>
        <limit effort="30" velocity="1.0" lower="-10.0" upper="10.0" />
        <axis xyz="1 0 0" />
    </joint>
	<joint name="jLeftShoulder_roty" type="revolute">
        <origin xyz="0 0 0" rpy="0 0 0"/>
        <parent link="LeftUpperArm_f1"/>
        <child link="LeftUpperArm_f2"/>
        <dynamics damping="0.1" friction="0.0"/>
        <limit effort="30" velocity="1.0" lower="-10.0" upper="10.0" />
        <axis xyz="0 1 0" />
    </joint>
    <joint name="jLeftShoulder_rotz" type="revolute">
        <origin xyz="0 0 0" rpy="0 0 0"/>
        <parent link="LeftUpperArm_f2"/>
        <child link="LeftUpperArm"/>
        <dynamics damping="0.1" friction="0.0"/>
        <limit effort="30" velocity="1.0" lower="-10.0" upper="10.0" />
        <axis xyz="0 0 1" />
    </joint>
    <joint name="jLeftElbow_rotx" type="revolute">
        <origin xyz="0     0.31509           0" rpy="0 0 0"/>
        <parent link="LeftUpperArm"/>
        <child link="LeftForeArm_f1"/>
        <dynamics damping="0.1" friction="0.0"/>
        <limit effort="30" velocity="1.0" lower="-10.0" upper="10.0" />
        <axis xyz="1 0 0" />
    </joint>
	<joint name="jLeftElbow_roty" type="revolute">
        <origin xyz="0 0 0" rpy="0 0 0"/>
        <parent link="LeftForeArm_f1"/>
        <child link="LeftForeArm_f2"/>
        <dynamics damping="0.1" friction="0.0"/>
        <limit effort="30" velocity="1.0" lower="-10.0" upper="10.0" />
        <axis xyz="0 1 0" />
    </joint>
    <joint name="jLeftElbow_rotz" type="revolute">
        <origin xyz="0 0 0" rpy="0 0 0"/>
        <parent link="LeftForeArm_f2"/>
        <child link="LeftForeArm"/>
        <dynamics damping="0.1" friction="0.0"/>
        <limit effort="30" velocity="1.0" lower="-10.0" upper="10.0" />
        <axis xyz="0 0 1" />
    </joint>
	<joint name="jLeftWrist_rotx" type="revolute">
        <origin xyz="2.6e-05      0.2584           0" rpy="0 0 0"/>
        <parent link="LeftForeArm"/>
        <child link="LeftHand_f1"/>
        <dynamics damping="0.1" friction="0.0"/>
        <limit effort="30" velocity="1.0" lower="-10.0" upper="10.0" />
        <axis xyz="1 0 0" />
    </joint>
	<joint name="jLeftWrist_roty" type="revolute">
        <origin xyz="0 0 0" rpy="0 0 0"/>
        <parent link="LeftHand_f1"/>
        <child link="LeftHand_f2"/>
        <dynamics damping="0.1" friction="0.0"/>
        <limit effort="30" velocity="1.0" lower="-10.0" upper="10.0" />
        <axis xyz="0 1 0" />
    </joint>
    <joint name="jLeftWrist_rotz" type="revolute">
        <origin xyz="0 0 0" rpy="0 0 0"/>
        <parent link="LeftHand_f2"/>
        <child link="LeftHand"/>
        <dynamics damping="0.1" friction="0.0"/>
        <limit effort="30" velocity="1.0" lower="-10.0" upper="10.0" />
        <axis xyz="0 0 1" />
    </joint>
	<!--Chain from (16) to (19)-->
	<joint name="jRightHip_rotx" type="revolute">
        <origin xyz="0.000329   -0.095719    0.003228" rpy="0 0 0"/>
        <parent link="Pelvis"/>
        <child link="RightUpperLeg_f1"/>
        <dynamics damping="0.1" friction="0.0"/>
        <limit effort="30" velocity="1.0" lower="-10.0" upper="10.0" />
        <axis xyz="1 0 0" />
    </joint>
	<joint name="jRightHip_roty" type="revolute">
        <origin xyz="0 0 0" rpy="0 0 0"/>
        <parent link="RightUpperLeg_f1"/>
        <child link="RightUpperLeg_f2"/>
        <dynamics damping="0.1" friction="0.0"/>
        <limit effort="30" velocity="1.0" lower="-10.0" upper="10.0" />
        <axis xyz="0 1 0" />
    </joint>
    <joint name="jRightHip_rotz" type="revolute">
        <origin xyz="0 0 0" rpy="0 0 0"/>
        <parent link="RightUpperLeg_f2"/>
        <child link="RightUpperLeg"/>
        <dynamics damping="0.1" friction="0.0"/>
        <limit effort="30" velocity="1.0" lower="-10.0" upper="10.0" />
        <axis xyz="0 0 1" />
    </joint>
	<joint name="jRightKnee_rotx" type="revolute">
        <origin xyz="-1.7e-05           0    -0.51641" rpy="0 0 0"/>
        <parent link="RightUpperLeg"/>
        <child link="RightLowerLeg_f1"/>
        <dynamics damping="0.1" friction="0.0"/>
        <limit effort="30" velocity="1.0" lower="-10.0" upper="10.0" />
        <axis xyz="1 0 0" />
    </joint>
	<joint name="jRightKnee_roty" type="revolute">
        <origin xyz="0 0 0" rpy="0 0 0"/>
        <parent link="RightLowerLeg_f1"/>
        <child link="RightLowerLeg_f2"/>
        <dynamics damping="0.1" friction="0.0"/>
        <limit effort="30" velocity="1.0" lower="-10.0" upper="10.0" />
        <axis xyz="0 1 0" />
    </joint>
    <joint name="jRightKnee_rotz" type="revolute">
        <origin xyz="0 0 0" rpy="0 0 0"/>
        <parent link="RightLowerLeg_f2"/>
        <child link="RightLowerLeg"/>
        <dynamics damping="0.1" friction="0.0"/>
        <limit effort="30" velocity="1.0" lower="-10.0" upper="10.0" />
        <axis xyz="0 0 1" />
    </joint>
	<joint name="jRightAnkle_rotx" type="revolute">
        <origin xyz="-6.4e-05           0    -0.44136" rpy="0 0 0"/>
        <parent link="RightLowerLeg"/>
        <child link="RightFoot_f1"/>
        <dynamics damping="0.1" friction="0.0"/>
        <limit effort="30" velocity="1.0" lower="-10.0" upper="10.0" />
        <axis xyz="1 0 0" />
    </joint>
	<joint name="jRightAnkle_roty" type="revolute">
        <origin xyz="0 0 0" rpy="0 0 0"/>
        <parent link="RightFoot_f1"/>
        <child link="RightFoot_f2"/>
        <dynamics damping="0.1" friction="0.0"/>
        <limit effort="30" velocity="1.0" lower="-10.0" upper="10.0" />
        <axis xyz="0 1 0" />
    </joint>
    <joint name="jRightAnkle_rotz" type="revolute">
        <origin xyz="0 0 0" rpy="0 0 0"/>
        <parent link="RightFoot_f2"/>
        <child link="RightFoot"/>
        <dynamics damping="0.1" friction="0.0"/>
        <limit effort="30" velocity="1.0" lower="-10.0" upper="10.0" />
        <axis xyz="0 0 1" />
    </joint>
	<joint name="jRightBallFoot_rotx" type="revolute">
        <origin xyz="0.16043           0   -0.066506" rpy="0 0 0"/>
        <parent link="RightFoot"/>
        <child link="RightToe_f1"/>
        <dynamics damping="0.1" friction="0.0"/>
        <limit effort="30" velocity="1.0" lower="-10.0" upper="10.0" />
        <axis xyz="1 0 0" />
    </joint>
	<joint name="jRightBallFoot_roty" type="revolute">
        <origin xyz="0 0 0" rpy="0 0 0"/>
        <parent link="RightToe_f1"/>
        <child link="RightToe_f2"/>
        <dynamics damping="0.1" friction="0.0"/>
        <limit effort="30" velocity="1.0" lower="-10.0" upper="10.0" />
        <axis xyz="0 1 0" />
    </joint>
    <joint name="jRightBallFoot_rotz" type="revolute">
        <origin xyz="0 0 0" rpy="0 0 0"/>
        <parent link="RightToe_f2"/>
        <child link="RightToe"/>
        <dynamics damping="0.1" friction="0.0"/>
        <limit effort="30" velocity="1.0" lower="-10.0" upper="10.0" />
        <axis xyz="0 0 1" />
    </joint>
	<!--Chain from (20) to (23)-->
	<joint name="jLeftHip_rotx" type="revolute">
        <origin xyz="0.000329    0.095719    0.003228" rpy="0 0 0"/>
        <parent link="Pelvis"/>
        <child link="LeftUpperLeg_f1"/>
        <dynamics damping="0.1" friction="0.0"/>
        <limit effort="30" velocity="1.0" lower="-10.0" upper="10.0" />
        <axis xyz="1 0 0" />
    </joint>
	<joint name="jLeftHip_roty" type="revolute">
        <origin xyz="0 0 0" rpy="0 0 0"/>
        <parent link="LeftUpperLeg_f1"/>
        <child link="LeftUpperLeg_f2"/>
        <dynamics damping="0.1" friction="0.0"/>
        <limit effort="30" velocity="1.0" lower="-10.0" upper="10.0" />
        <axis xyz="0 1 0" />
    </joint>
    <joint name="jLeftHip_rotz" type="revolute">
        <origin xyz="0 0 0" rpy="0 0 0"/>
        <parent link="LeftUpperLeg_f2"/>
        <child link="LeftUpperLeg"/>
        <dynamics damping="0.1" friction="0.0"/>
        <limit effort="30" velocity="1.0" lower="-10.0" upper="10.0" />
        <axis xyz="0 0 1" />
    </joint>
	<joint name="jLeftKnee_rotx" type="revolute">
        <origin xyz="-1.7e-05           0    -0.51641" rpy="0 0 0"/>
        <parent link="LeftUpperLeg"/>
        <child link="LeftLowerLeg_f1"/>
        <dynamics damping="0.1" friction="0.0"/>
        <limit effort="30" velocity="1.0" lower="-10.0" upper="10.0" />
        <axis xyz="1 0 0" />
    </joint>
	<joint name="jLeftKnee_roty" type="revolute">
        <origin xyz="0 0 0" rpy="0 0 0"/>
        <parent link="LeftLowerLeg_f1"/>
        <child link="LeftLowerLeg_f2"/>
        <dynamics damping="0.1" friction="0.0"/>
        <limit effort="30" velocity="1.0" lower="-10.0" upper="10.0" />
        <axis xyz="0 1 0" />
    </joint>
    <joint name="jLeftKnee_rotz" type="revolute">
        <origin xyz="0 0 0" rpy="0 0 0"/>
        <parent link="LeftLowerLeg_f2"/>
        <child link="LeftLowerLeg"/>
        <dynamics damping="0.1" friction="0.0"/>
        <limit effort="30" velocity="1.0" lower="-10.0" upper="10.0" />
        <axis xyz="0 0 1" />
    </joint>
	<joint name="jLeftAnkle_rotx" type="revolute">
        <origin xyz="-6.4e-05           0    -0.44136" rpy="0 0 0"/>
        <parent link="LeftLowerLeg"/>
        <child link="LeftFoot_f1"/>
        <dynamics damping="0.1" friction="0.0"/>
        <limit effort="30" velocity="1.0" lower="-10.0" upper="10.0" />
        <axis xyz="1 0 0" />
    </joint>
	<joint name="jLeftAnkle_roty" type="revolute">
        <origin xyz="0 0 0" rpy="0 0 0"/>
        <parent link="LeftFoot_f1"/>
        <child link="LeftFoot_f2"/>
        <dynamics damping="0.1" friction="0.0"/>
        <limit effort="30" velocity="1.0" lower="-10.0" upper="10.0" />
        <axis xyz="0 1 0" />
    </joint>
    <joint name="jLeftAnkle_rotz" type="revolute">
        <origin xyz="0 0 0" rpy="0 0 0"/>
        <parent link="LeftFoot_f2"/>
        <child link="LeftFoot"/>
        <dynamics damping="0.1" friction="0.0"/>
        <limit effort="30" velocity="1.0" lower="-10.0" upper="10.0" />
        <axis xyz="0 0 1" />
    </joint>
	<joint name="jLeftBallFoot_rotx" type="revolute">
        <origin xyz="0.16043           0   -0.066506" rpy="0 0 0"/>
        <parent link="LeftFoot"/>
        <child link="LeftToe_f1"/>
        <dynamics damping="0.1" friction="0.0"/>
        <limit effort="30" velocity="1.0" lower="-10.0" upper="10.0" />
        <axis xyz="1 0 0" />
    </joint>
	<joint name="jLeftBallFoot_roty" type="revolute">
        <origin xyz="0 0 0" rpy="0 0 0"/>
        <parent link="LeftToe_f1"/>
        <child link="LeftToe_f2"/>
        <dynamics damping="0.1" friction="0.0"/>
        <limit effort="30" velocity="1.0" lower="-10.0" upper="10.0" />
        <axis xyz="0 1 0" />
    </joint>
    <joint name="jLeftBallFoot_rotz" type="revolute">
        <origin xyz="0 0 0" rpy="0 0 0"/>
        <parent link="LeftToe_f2"/>
        <child link="LeftToe"/>
        <dynamics damping="0.1" friction="0.0"/>
        <limit effort="30" velocity="1.0" lower="-10.0" upper="10.0" />
        <axis xyz="0 0 1" />
    </joint>

	<!-- Sensor  1-->
<sensor name="Pelvis_gyro" type="gyroscope">
<parent link="Pelvis"/>
<origin xyz="-0.06667  1.9218e-05     0.11377" rpy="0.058235      1.2743     -2.9125"/>
</sensor>
<sensor name="Pelvis_accelerometer" type="accelerometer">
<parent link="Pelvis"/>
<origin xyz="-0.06667  1.9218e-05     0.11377" rpy="0.058235      1.2743     -2.9125"/>
</sensor>
<!-- Sensor  2-->
<sensor name="T8_gyro" type="gyroscope">
<parent link="T8"/>
<origin xyz="0.12972 -1.4872e-09    0.071348" rpy="0.045215      1.2793   -0.026658"/>
</sensor>
<sensor name="T8_accelerometer" type="accelerometer">
<parent link="T8"/>
<origin xyz="0.12972 -1.4872e-09    0.071348" rpy="0.045215      1.2793   -0.026658"/>
</sensor>
<!-- Sensor  3-->
<sensor name="Head_gyro" type="gyroscope">
<parent link="Head"/>
<origin xyz="-0.073763 -5.7664e-08    0.081079" rpy="2.3426    0.082693     -1.5131"/>
</sensor>
<sensor name="Head_accelerometer" type="accelerometer">
<parent link="Head"/>
<origin xyz="-0.073763 -5.7664e-08    0.081079" rpy="2.3426    0.082693     -1.5131"/>
</sensor>
<!-- Sensor  4-->
<sensor name="RightShoulder_gyro" type="gyroscope">
<parent link="RightShoulder"/>
<origin xyz="-0.023016    -0.05754   -0.069048" rpy="1.0994    -0.29541     -1.4356"/>
</sensor>
<sensor name="RightShoulder_accelerometer" type="accelerometer">
<parent link="RightShoulder"/>
<origin xyz="-0.023016    -0.05754   -0.069048" rpy="1.0994    -0.29541     -1.4356"/>
</sensor>
<!-- Sensor  5-->
<sensor name="RightUpperArm_gyro" type="gyroscope">
<parent link="RightUpperArm"/>
<origin xyz="-0.021049    -0.10525    0.021049" rpy="-0.18121   -0.028714      -1.559"/>
</sensor>
<sensor name="RightUpperArm_accelerometer" type="accelerometer">
<parent link="RightUpperArm"/>
<origin xyz="-0.021049    -0.10525    0.021049" rpy="-0.18121   -0.028714      -1.559"/>
</sensor>
<!-- Sensor  6-->
<sensor name="RightForeArm_gyro" type="gyroscope">
<parent link="RightForeArm"/>
<origin xyz="0.0019387    -0.21155    0.021129" rpy="-0.20029     0.04118     -1.3259"/>
</sensor>
<sensor name="RightForeArm_accelerometer" type="accelerometer">
<parent link="RightForeArm"/>
<origin xyz="0.0019387    -0.21155    0.021129" rpy="-0.20029     0.04118     -1.3259"/>
</sensor>
<!-- Sensor  7-->
<sensor name="RightHand_gyro" type="gyroscope">
<parent link="RightHand"/>
<origin xyz="1.9276e-08   -0.058423    0.021245" rpy="-0.27973    -0.18064     -1.2866"/>
</sensor>
<sensor name="RightHand_accelerometer" type="accelerometer">
<parent link="RightHand"/>
<origin xyz="1.9276e-08   -0.058423    0.021245" rpy="-0.27973    -0.18064     -1.2866"/>
</sensor>
<!-- Sensor  8-->
<sensor name="LeftShoulder_gyro" type="gyroscope">
<parent link="LeftShoulder"/>
<origin xyz="-0.023016     0.05754   -0.069048" rpy="-1.0089    -0.34586      1.3174"/>
</sensor>
<sensor name="LeftShoulder_accelerometer" type="accelerometer">
<parent link="LeftShoulder"/>
<origin xyz="-0.023016     0.05754   -0.069048" rpy="-1.0089    -0.34586      1.3174"/>
</sensor>
<!-- Sensor  9-->
<sensor name="LeftUpperArm_gyro" type="gyroscope">
<parent link="LeftUpperArm"/>
<origin xyz="-0.021049     0.10525    0.021049" rpy="0.030288   -0.042253      1.4747"/>
</sensor>
<sensor name="LeftUpperArm_accelerometer" type="accelerometer">
<parent link="LeftUpperArm"/>
<origin xyz="-0.021049     0.10525    0.021049" rpy="0.030288   -0.042253      1.4747"/>
</sensor>
<!-- Sensor  10-->
<sensor name="LeftForeArm_gyro" type="gyroscope">
<parent link="LeftForeArm"/>
<origin xyz="0.0019386     0.21155     0.02113" rpy="0.17531   -0.052628      1.4252"/>
</sensor>
<sensor name="LeftForeArm_accelerometer" type="accelerometer">
<parent link="LeftForeArm"/>
<origin xyz="0.0019386     0.21155     0.02113" rpy="0.17531   -0.052628      1.4252"/>
</sensor>
<!-- Sensor  11-->
<sensor name="LeftHand_gyro" type="gyroscope">
<parent link="LeftHand"/>
<origin xyz="-1.0978e-07    0.058423    0.021245" rpy="0.18354    -0.17407       1.488"/>
</sensor>
<sensor name="LeftHand_accelerometer" type="accelerometer">
<parent link="LeftHand"/>
<origin xyz="-1.0978e-07    0.058423    0.021245" rpy="0.18354    -0.17407       1.488"/>
</sensor>
<!-- Sensor  12-->
<sensor name="RightUpperLeg_gyro" type="gyroscope">
<parent link="RightUpperLeg"/>
<origin xyz="0.014955   -0.052655    -0.31107" rpy="2.6448      1.4197      1.0822"/>
</sensor>
<sensor name="RightUpperLeg_accelerometer" type="accelerometer">
<parent link="RightUpperLeg"/>
<origin xyz="0.014955   -0.052655    -0.31107" rpy="2.6448      1.4197      1.0822"/>
</sensor>
<!-- Sensor  13-->
<sensor name="RightLowerLeg_gyro" type="gyroscope">
<parent link="RightLowerLeg"/>
<origin xyz="0.033526   0.0076743    -0.14424" rpy="-2.4205      1.5343     -2.7176"/>
</sensor>
<sensor name="RightLowerLeg_accelerometer" type="accelerometer">
<parent link="RightLowerLeg"/>
<origin xyz="0.033526   0.0076743    -0.14424" rpy="-2.4205      1.5343     -2.7176"/>
</sensor>
<!-- Sensor  14-->
<sensor name="RightFoot_gyro" type="gyroscope">
<parent link="RightFoot"/>
<origin xyz="0.091788   0.0015275   -0.012958" rpy="0.31723     0.31046    -0.12923"/>
</sensor>
<sensor name="RightFoot_accelerometer" type="accelerometer">
<parent link="RightFoot"/>
<origin xyz="0.091788   0.0015275   -0.012958" rpy="0.31723     0.31046    -0.12923"/>
</sensor>
<!-- Sensor  15-->
<sensor name="LeftUpperLeg_gyro" type="gyroscope">
<parent link="LeftUpperLeg"/>
<origin xyz="0.014955    0.052655    -0.31107" rpy="2.5284      1.4035     -2.3242"/>
</sensor>
<sensor name="LeftUpperLeg_accelerometer" type="accelerometer">
<parent link="LeftUpperLeg"/>
<origin xyz="0.014955    0.052655    -0.31107" rpy="2.5284      1.4035     -2.3242"/>
</sensor>
<!-- Sensor  16-->
<sensor name="LeftLowerLeg_gyro" type="gyroscope">
<parent link="LeftLowerLeg"/>
<origin xyz="0.033526  -0.0076744    -0.14424" rpy="-3.0126      1.4123     -3.1283"/>
</sensor>
<sensor name="LeftLowerLeg_accelerometer" type="accelerometer">
<parent link="LeftLowerLeg"/>
<origin xyz="0.033526  -0.0076744    -0.14424" rpy="-3.0126      1.4123     -3.1283"/>
</sensor>
<!-- Sensor  17-->
<sensor name="LeftFoot_gyro" type="gyroscope">
<parent link="LeftFoot"/>
<origin xyz="0.091788  -0.0015275   -0.012958" rpy="-0.32102     0.38373     0.13021"/>
</sensor>
<sensor name="LeftFoot_accelerometer" type="accelerometer">
<parent link="LeftFoot"/>
<origin xyz="0.091788  -0.0015275   -0.012958" rpy="-0.32102     0.38373     0.13021"/>
</sensor>


</robot>
